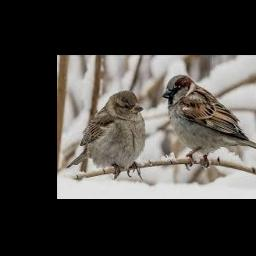Sparrow: (162, 74, 256, 170), (66, 90, 146, 181)
